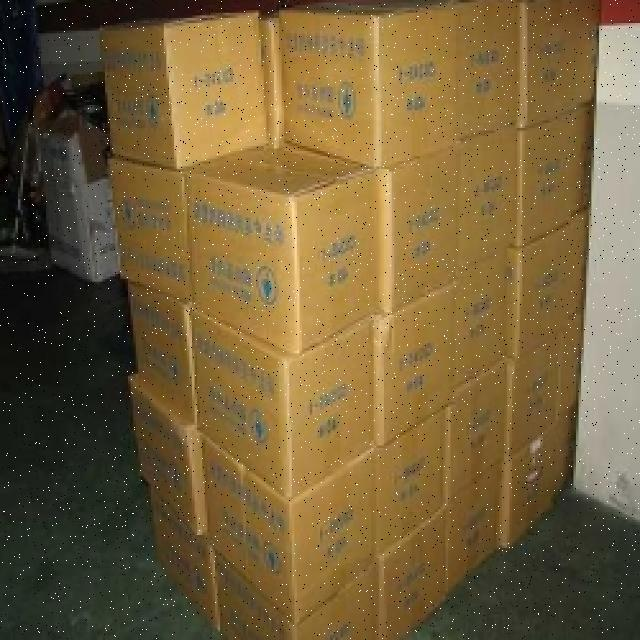box: (194, 148, 366, 336), (282, 0, 464, 161), (192, 328, 366, 469), (186, 452, 370, 582), (112, 9, 258, 160), (363, 132, 461, 299), (373, 261, 445, 426), (222, 566, 376, 640), (369, 406, 446, 547), (513, 101, 593, 232), (118, 394, 192, 522), (112, 159, 182, 288), (520, 0, 594, 120), (377, 514, 446, 640), (458, 0, 522, 131), (123, 529, 214, 617), (447, 255, 511, 378), (460, 134, 521, 262), (507, 225, 563, 352), (442, 370, 502, 488), (448, 464, 502, 592), (506, 342, 566, 446), (128, 306, 192, 390), (496, 446, 544, 552), (554, 210, 594, 324), (534, 423, 579, 507), (555, 310, 589, 408)
